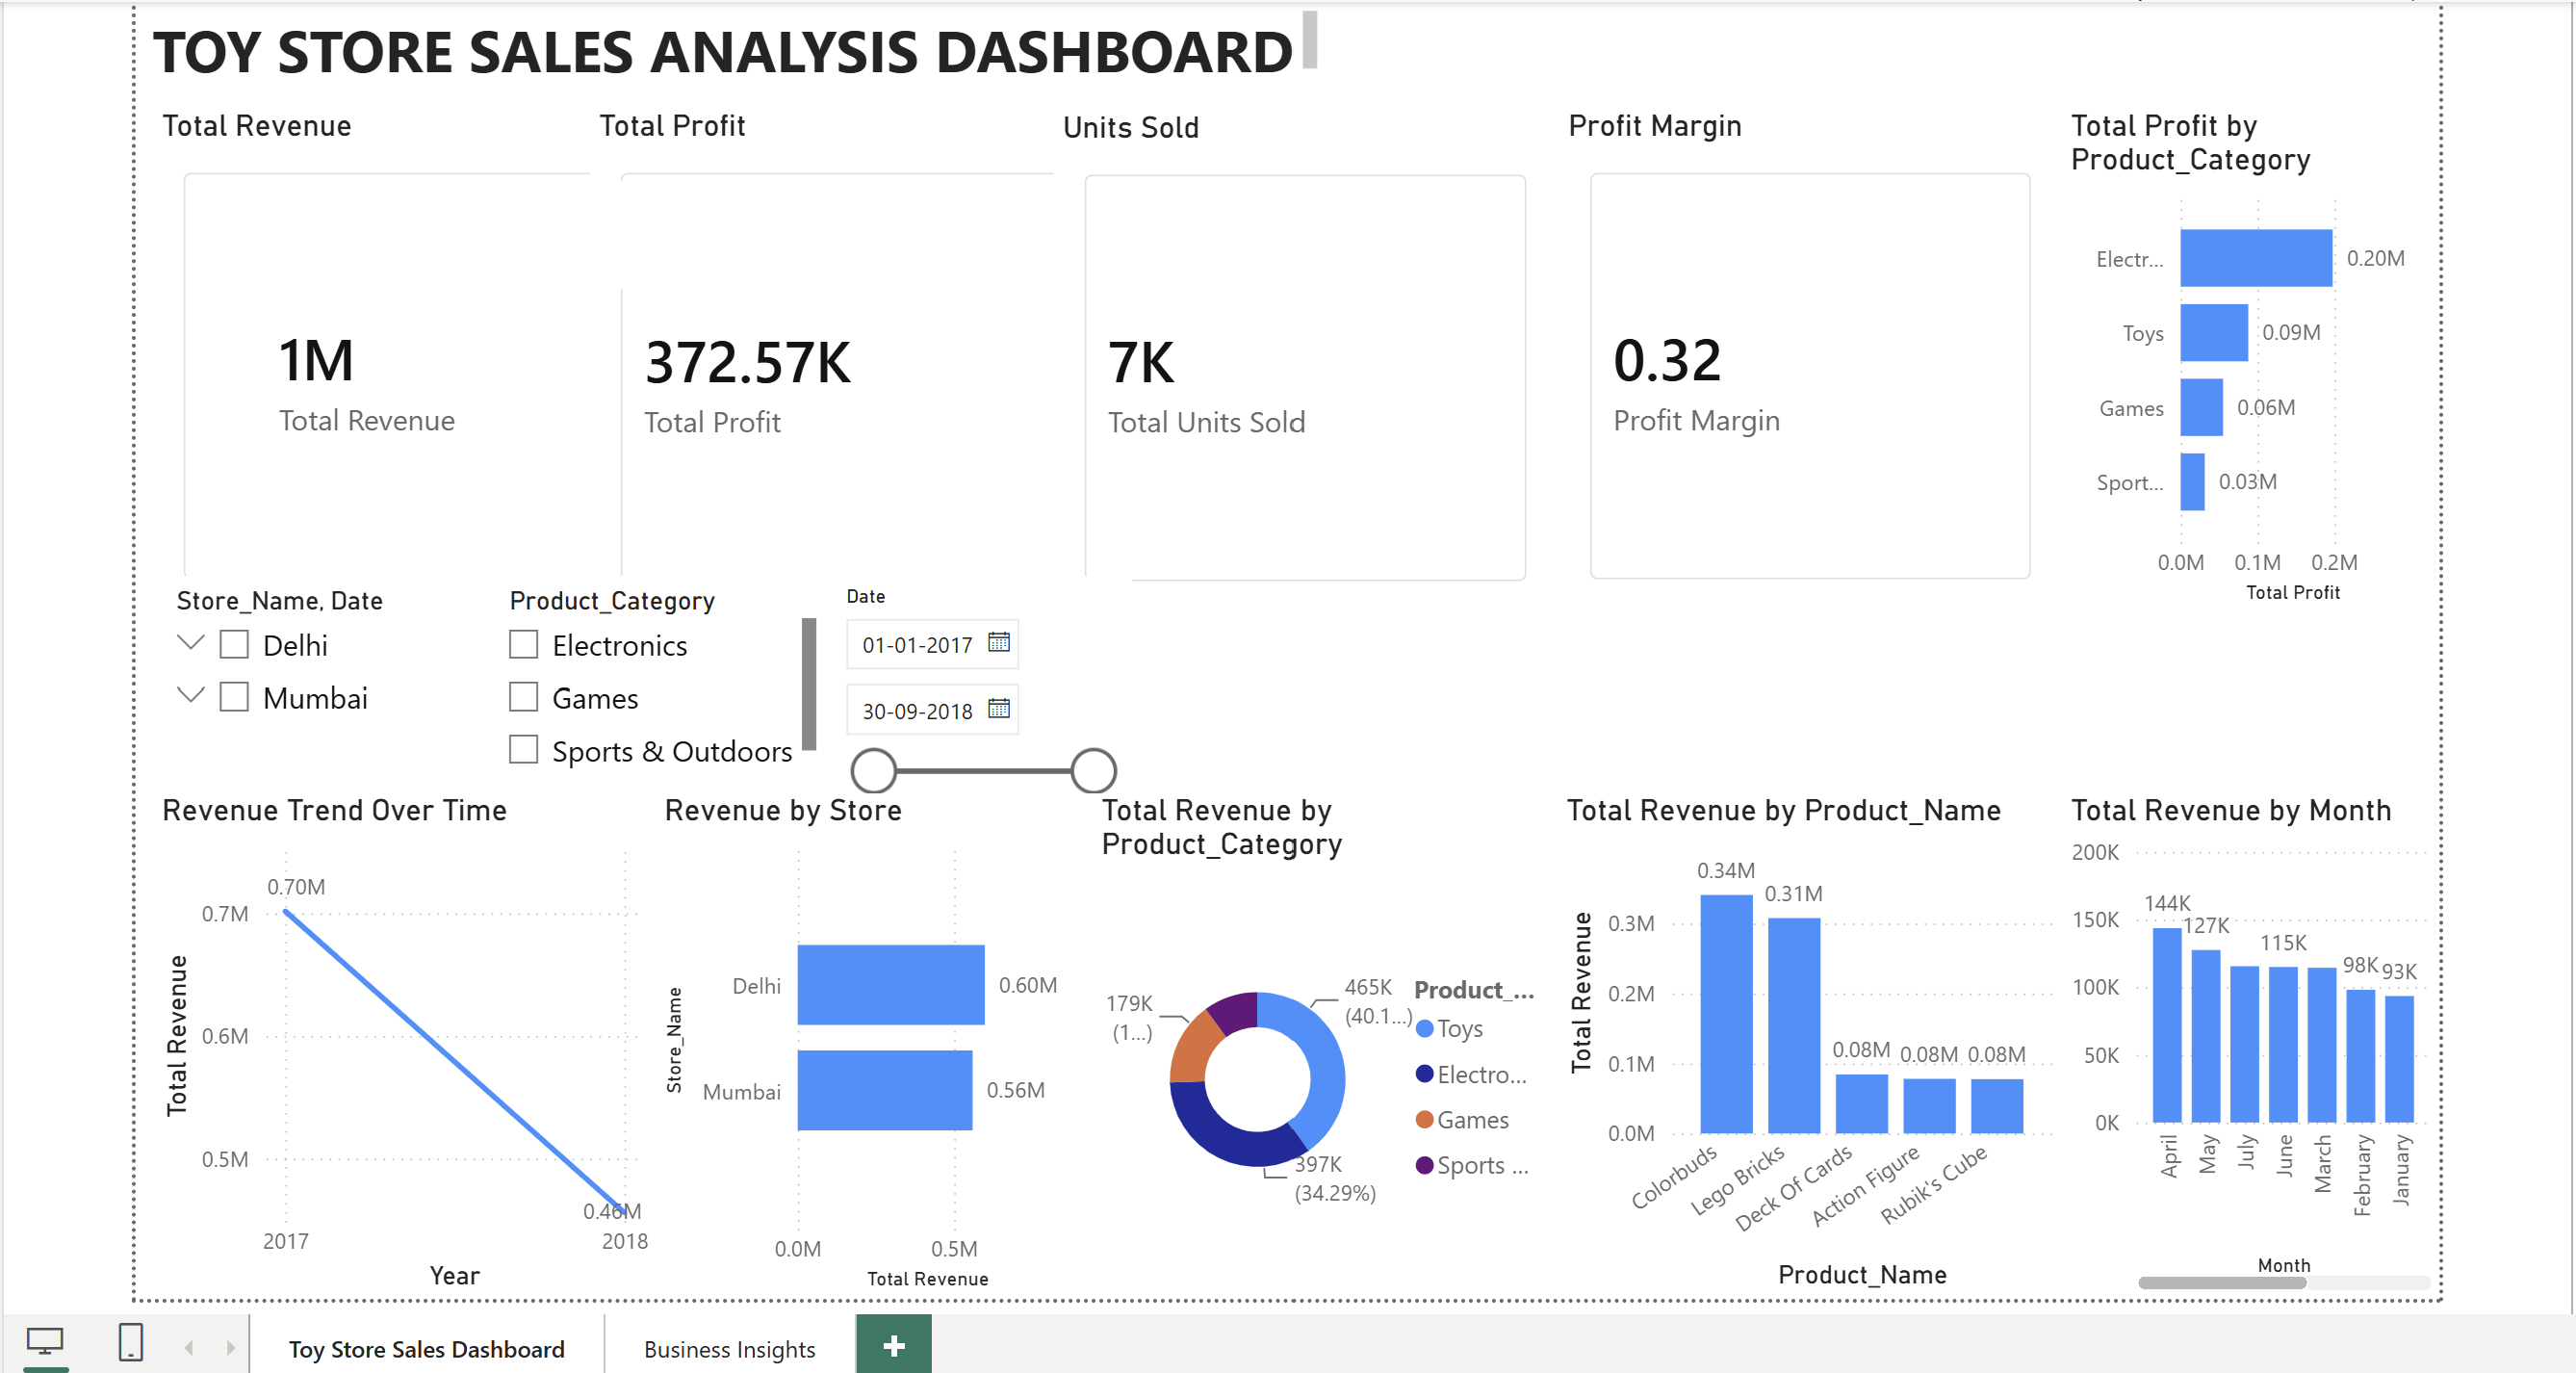

The dashboard page shown, as its layout file describes it:
{"tool":"powerbi","page":{"name":"Toy Store Sales Dashboard","canvas":[1280,720],"ordinal":0},"visuals":[{"type":"cardVisual","title":"Total Revenue","fields":{"Data":["sales_new.Total Revenue"]},"box":[9.3,59.2,279.9,279.9],"z":0},{"type":"cardVisual","title":"Total Profit","fields":{"Data":["sales_new.Total Profit"]},"box":[252.1,59.2,279.9,281.1],"z":1000},{"type":"cardVisual","title":"Profit Margin","fields":{"Data":["sales_new.Profit Margin"]},"box":[790.1,59.2,279.7,279.7],"z":2000},{"type":"cardVisual","title":"Units Sold","fields":{"Data":["sales_new.Total Units Sold"]},"box":[509.9,60.4,279.9,279.9],"z":3000},{"type":"lineChart","title":"Revenue Trend Over Time","fields":{"Category":["sales_new.Date.Variation.Date Hierarchy.Year","sales_new.Date.Variation.Date Hierarchy.Quarter","sales_new.Date.Variation.Date Hierarchy.Month","sales_new.Date.Variation.Date Hierarchy.Day"],"Y":["sales_new.Total Revenue"]},"box":[9.3,439.1,279.9,281.1],"z":4000},{"type":"barChart","title":"Revenue by Store","fields":{"Category":["store.Store_Name"],"Y":["sales_new.Total Revenue"]},"box":[289,439,243,281],"z":5000},{"type":"donutChart","fields":{"Category":["products_new.Product_Category"],"Y":["sales_new.Total Revenue"]},"box":[532,439,258,281],"z":6000},{"type":"clusteredColumnChart","fields":{"Category":["products_new.Product_Name"],"Y":["sales_new.Total Revenue"]},"box":[790,439,280,281],"z":7000},{"type":"clusteredColumnChart","fields":{"Category":["sales_new.Month"],"Y":["sales_new.Total Revenue"]},"box":[1069.9,438.6,210.4,281.4],"z":8000},{"type":"barChart","fields":{"Category":["products_new.Product_Category"],"Y":["sales_new.Total Profit"]},"box":[1069.9,59.2,210.4,279.7],"z":9000},{"type":"slicer","fields":{"Values":["store.Store_Name","sales_new.Date"]},"box":[9.3,318.6,188.5,120.8],"z":10000},{"type":"slicer","fields":{"Values":["sales_new.Date"]},"box":[382.5,318.7,171.7,120.3],"z":11000},{"type":"slicer","fields":{"Values":["products_new.Product_Category"]},"box":[194.4,318.6,188.5,120.8],"z":12000},{"type":"textbox","box":[99.7,99.7,195.2,60],"z":13000},{"type":"textbox","box":[0,0,660.9,47.1],"z":14000}]}

Visuals, with their boxes on the page's 1280x720 design canvas (x1, y1, x2, y2). These are canvas units, not pixel positions in the 2576x1373 screenshot, which may show the page scaled, cropped or inside an application window:
"Total Revenue" cardVisual: {"left": 9, "top": 59, "right": 289, "bottom": 339}
"Total Profit" cardVisual: {"left": 252, "top": 59, "right": 532, "bottom": 340}
"Profit Margin" cardVisual: {"left": 790, "top": 59, "right": 1070, "bottom": 339}
"Units Sold" cardVisual: {"left": 510, "top": 60, "right": 790, "bottom": 340}
"Revenue Trend Over Time" lineChart: {"left": 9, "top": 439, "right": 289, "bottom": 720}
"Revenue by Store" barChart: {"left": 289, "top": 439, "right": 532, "bottom": 720}
donutChart - products_new.Product_Category x sales_new.Total Revenue: {"left": 532, "top": 439, "right": 790, "bottom": 720}
clusteredColumnChart - products_new.Product_Name x sales_new.Total Revenue: {"left": 790, "top": 439, "right": 1070, "bottom": 720}
clusteredColumnChart - sales_new.Month x sales_new.Total Revenue: {"left": 1070, "top": 439, "right": 1280, "bottom": 720}
barChart - products_new.Product_Category x sales_new.Total Profit: {"left": 1070, "top": 59, "right": 1280, "bottom": 339}
slicer - store.Store_Name x sales_new.Date: {"left": 9, "top": 319, "right": 198, "bottom": 439}
slicer - sales_new.Date: {"left": 382, "top": 319, "right": 554, "bottom": 439}
slicer - products_new.Product_Category: {"left": 194, "top": 319, "right": 383, "bottom": 439}
textbox: {"left": 100, "top": 100, "right": 295, "bottom": 160}
textbox: {"left": 0, "top": 0, "right": 661, "bottom": 47}
